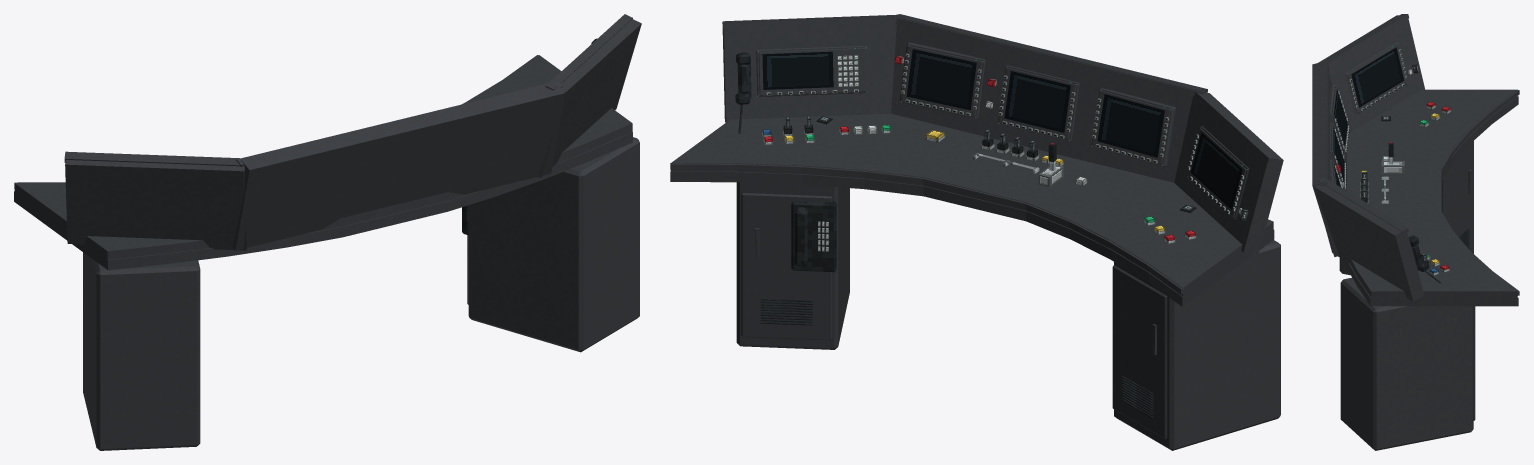
File: cab_item.obj
3 renders of one model, left to right at view 1: azimuth 30°, elevation 25°; view 2: azimuth 150°, elevation 25°; view 3: azimuth 270°, elevation 25°, orthographic. The views are drawn at different scales.
Size of the model in its own units: 2.87 by 1.37 by 1.14.
